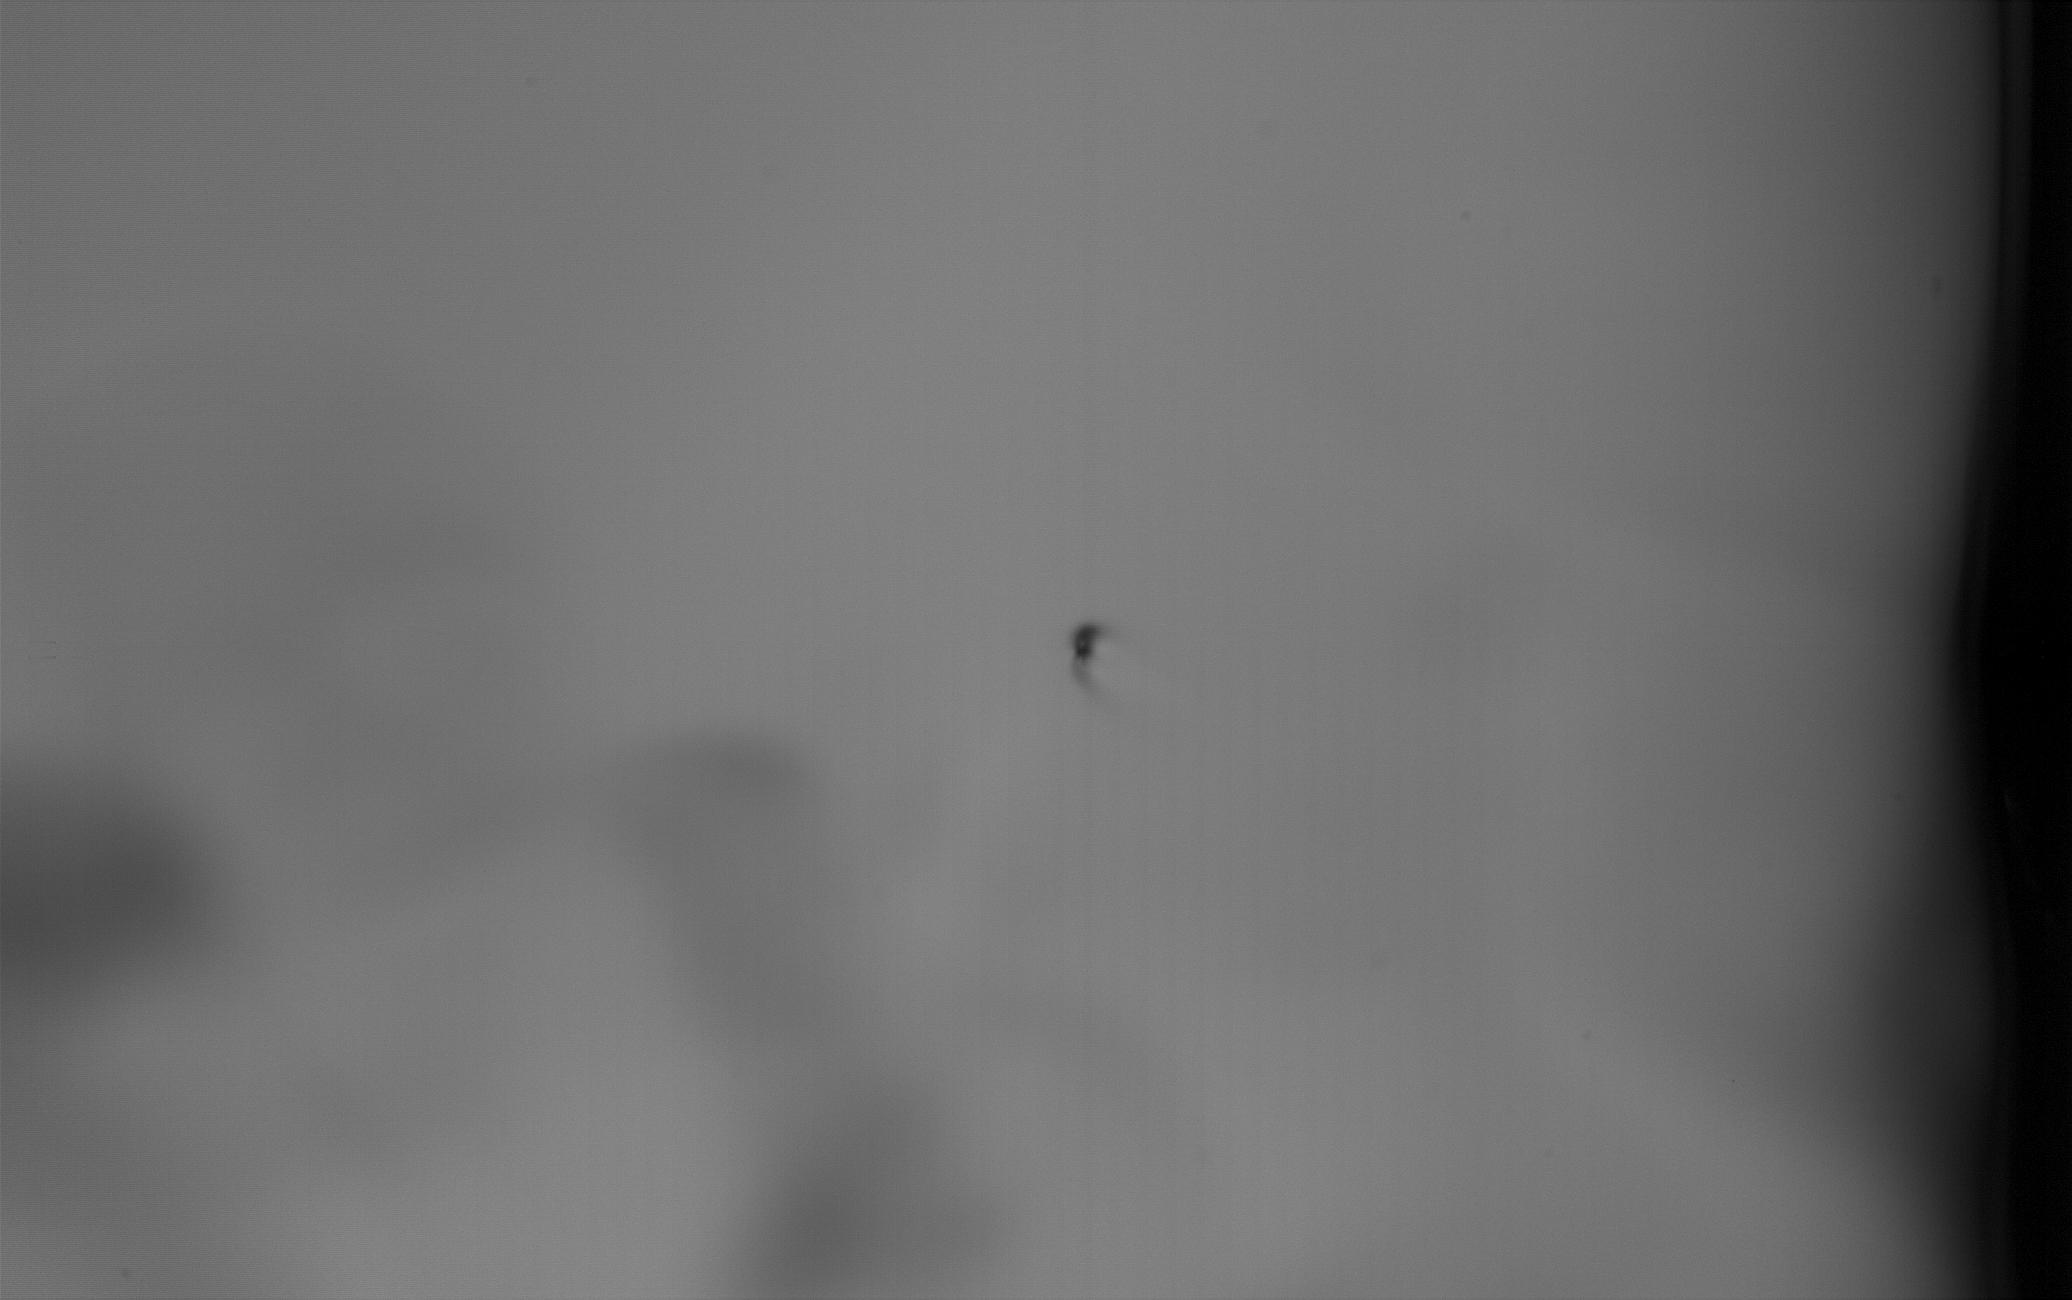DiffusiveMixing: (1066, 607, 1111, 704)
